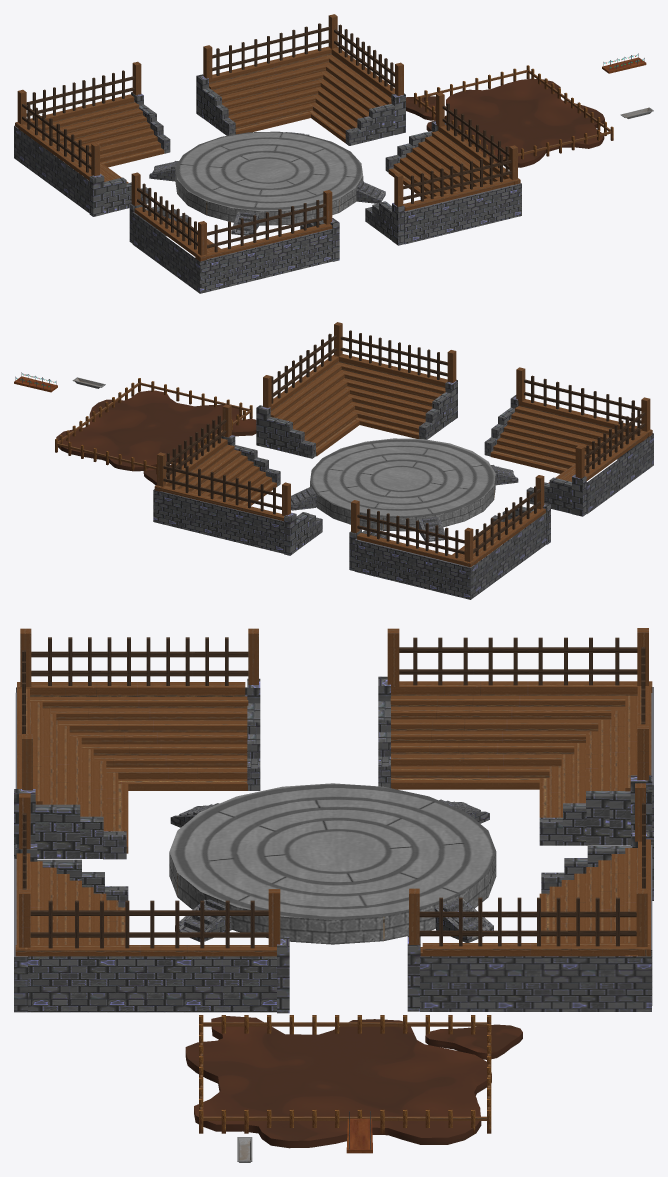
Rendered from SM_Arena_Pack_FBX's.fbx.
The picture shows the model from 3 angles, top to bottom: view 1: azimuth 30°, elevation 25°; view 2: azimuth 150°, elevation 25°; view 3: azimuth 270°, elevation 25°; orthographic projection. The views are drawn at different scales.
Parts seen in each view (by area): view 1: SM_Poultry_bash_Arena, SM_Poultry_Bash_Stage_01, SM_Chonk_Jousting_Arena, SM_Respawn_platform; view 2: SM_Poultry_bash_Arena, SM_Poultry_Bash_Stage_01, SM_Chonk_Jousting_Arena, SM_Respawn_platform; view 3: SM_Poultry_bash_Arena, SM_Poultry_Bash_Stage_01, SM_Chonk_Jousting_Arena, SM_Respawn_platform.
Part boxes in pixels (box(x1,y1,x2,y2)): SM_Poultry_bash_Arena: box(14, 14, 521, 293); SM_Poultry_Bash_Stage_01: box(175, 131, 363, 225); SM_Chonk_Jousting_Arena: box(406, 65, 613, 167); SM_Respawn_platform: box(602, 53, 646, 73); SM_Poultry_bash_Arena: box(153, 322, 653, 599); SM_Poultry_Bash_Stage_01: box(310, 438, 495, 531); SM_Chonk_Jousting_Arena: box(55, 378, 256, 485); SM_Respawn_platform: box(14, 372, 57, 392); SM_Poultry_bash_Arena: box(14, 628, 653, 1013); SM_Poultry_Bash_Stage_01: box(169, 783, 496, 944); SM_Chonk_Jousting_Arena: box(185, 1015, 522, 1148); SM_Respawn_platform: box(346, 1111, 372, 1153).
Size of the model in its own units: 7169 by 865 by 4248.
